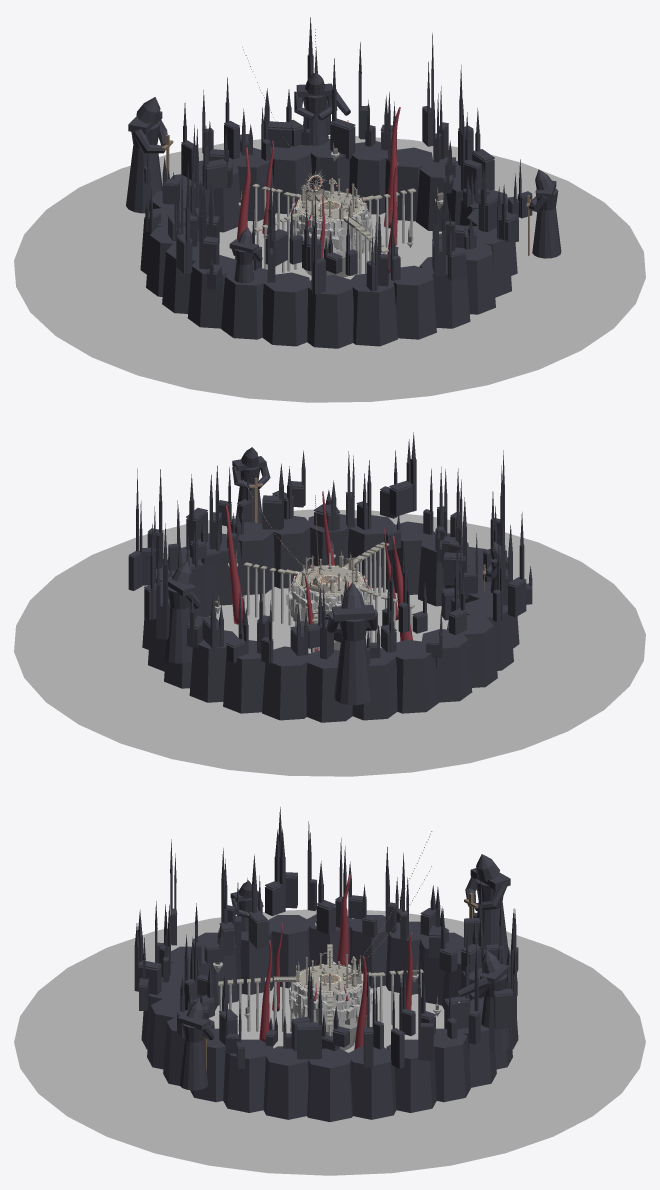
The model's file is arena_3.glb.
3 renders of one model, top to bottom at view 1: azimuth 30°, elevation 25°; view 2: azimuth 150°, elevation 25°; view 3: azimuth 270°, elevation 25°, orthographic.
Parts seen in each view (by area): view 1: SM_ar3_abismo_abismo, SM_ar3_horizonte_silhueta, SM_ar3_colossos_silhueta, SM_ar3_tentaculos_longe_carne, SM_ar3_pontes_longe_rocha, SM_ar3_penhasco_5_rocha; view 2: SM_ar3_abismo_abismo, SM_ar3_horizonte_silhueta, SM_ar3_colossos_silhueta, SM_ar3_tentaculos_longe_carne, SM_ar3_pontes_longe_rocha, SM_ar3_ponte_longe_rocha, SM_ar3_penhasco_2_rocha; view 3: SM_ar3_abismo_abismo, SM_ar3_horizonte_silhueta, SM_ar3_colossos_silhueta, SM_ar3_tentaculos_longe_carne, SM_ar3_penhasco_1_rocha, SM_ar3_ponte_longe_rocha, SM_ar3_penhasco_0_rocha.
Boxes of the visible parts, bbox=[...] form: SM_ar3_abismo_abismo: bbox=[14, 136, 645, 402]; SM_ar3_horizonte_silhueta: bbox=[140, 17, 532, 348]; SM_ar3_colossos_silhueta: bbox=[126, 72, 561, 283]; SM_ar3_tentaculos_longe_carne: bbox=[235, 107, 400, 273]; SM_ar3_pontes_longe_rocha: bbox=[254, 188, 413, 272]; SM_ar3_penhasco_5_rocha: bbox=[309, 219, 346, 252]; SM_ar3_abismo_abismo: bbox=[14, 509, 645, 776]; SM_ar3_horizonte_silhueta: bbox=[128, 432, 532, 722]; SM_ar3_colossos_silhueta: bbox=[163, 447, 508, 705]; SM_ar3_tentaculos_longe_carne: bbox=[225, 491, 412, 652]; SM_ar3_pontes_longe_rocha: bbox=[247, 566, 411, 652]; SM_ar3_ponte_longe_rocha: bbox=[359, 546, 386, 599]; SM_ar3_penhasco_2_rocha: bbox=[288, 582, 312, 621]; SM_ar3_abismo_abismo: bbox=[14, 909, 645, 1175]; SM_ar3_horizonte_silhueta: bbox=[134, 807, 518, 1121]; SM_ar3_colossos_silhueta: bbox=[177, 854, 510, 1090]; SM_ar3_tentaculos_longe_carne: bbox=[259, 874, 412, 1049]; SM_ar3_penhasco_1_rocha: bbox=[312, 988, 354, 1028]; SM_ar3_ponte_longe_rocha: bbox=[219, 982, 270, 1031]; SM_ar3_penhasco_0_rocha: bbox=[289, 983, 307, 1018].
Size of what is drawn, in the model's own units: 1040 by 387 by 1040.
